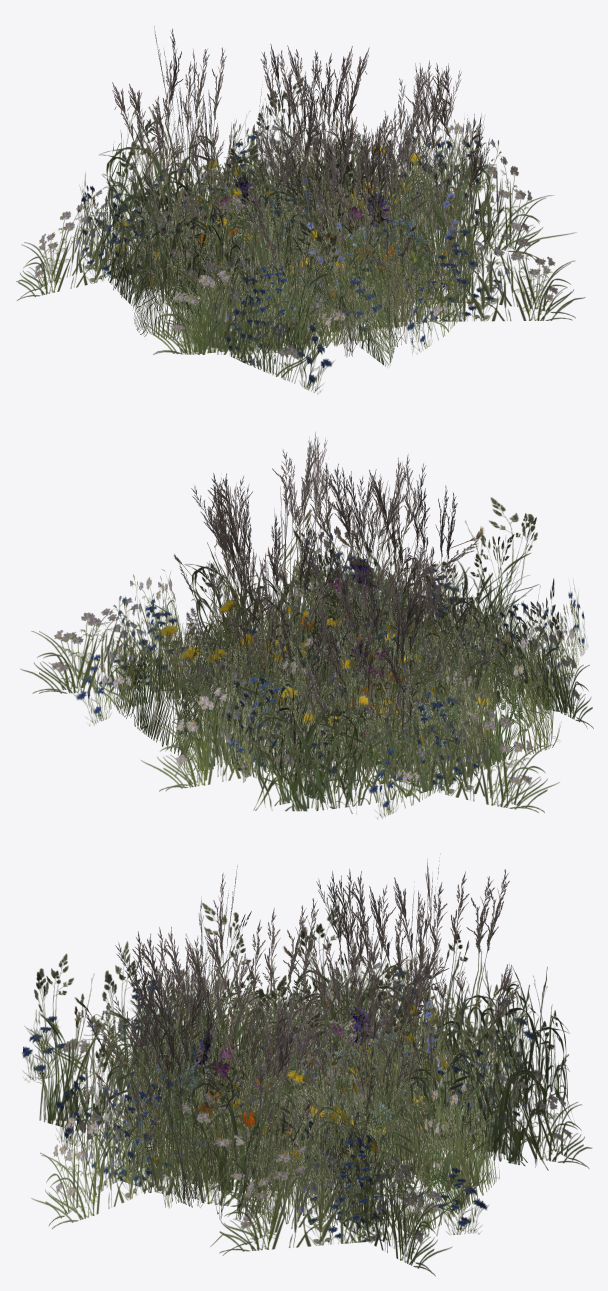
The model's file is clumps.glb.
3 views of the same model, one above another, from view 1: azimuth 30°, elevation 25°; view 2: azimuth 150°, elevation 25°; view 3: azimuth 270°, elevation 25° (orthographic). The views are drawn at different scales.
Visible parts, largest first — view 1: grass01-0, flowers02-0, flowers02-1, reeds-0, reeds-1, grass01-1, grass03-0, grass03-1, grass02-0, flowers01-1, flowers01-0, grass02-1 (+4 smaller); view 2: grass01-0, flowers02-0, grass01-1, flowers02-1, reeds-0, reeds-1, grass03-0, grass03-1, flowers03-0, flowers03-1, grass02-0, grass02-1 (+4 smaller); view 3: grass01-0, flowers02-0, reeds-0, grass01-1, flowers02-1, reeds-1, grass03-0, grass03-1, grass02-0, flowers01-0, grass02-1, flowers03-0 (+4 smaller).
Boxes of the visible parts, x1,y1,x2,y2 form: grass01-0: [99, 77, 498, 365]; flowers02-0: [16, 111, 585, 392]; flowers02-1: [17, 116, 572, 394]; reeds-0: [127, 28, 504, 325]; reeds-1: [112, 25, 469, 314]; grass01-1: [99, 87, 497, 367]; grass03-0: [132, 133, 456, 349]; grass03-1: [135, 133, 458, 348]; grass02-0: [166, 154, 494, 350]; flowers01-1: [169, 163, 479, 337]; flowers01-0: [171, 153, 487, 336]; grass02-1: [176, 164, 495, 332]; grass01-0: [168, 497, 572, 813]; flowers02-0: [20, 527, 587, 819]; grass01-1: [169, 513, 574, 813]; flowers02-1: [39, 521, 593, 818]; reeds-0: [173, 431, 510, 769]; reeds-1: [208, 437, 473, 781]; grass03-0: [112, 580, 558, 785]; grass03-1: [115, 578, 560, 781]; flowers03-0: [157, 599, 489, 774]; flowers03-1: [156, 603, 487, 775]; grass02-0: [206, 560, 549, 767]; grass02-1: [229, 564, 550, 759]; grass01-0: [34, 903, 575, 1220]; flowers02-0: [22, 947, 591, 1276]; reeds-0: [74, 859, 520, 1224]; grass01-1: [35, 911, 574, 1221]; flowers02-1: [22, 942, 585, 1273]; reeds-1: [91, 854, 517, 1214]; grass03-0: [118, 972, 499, 1235]; grass03-1: [116, 975, 495, 1237]; grass02-0: [124, 989, 480, 1217]; flowers01-0: [144, 1002, 462, 1193]; grass02-1: [126, 991, 477, 1212]; flowers03-0: [157, 968, 446, 1211].
Bounding box in the file's own units: 5.21 × 2.09 × 4.54.
Materials: 2 (2 with a texture image).
